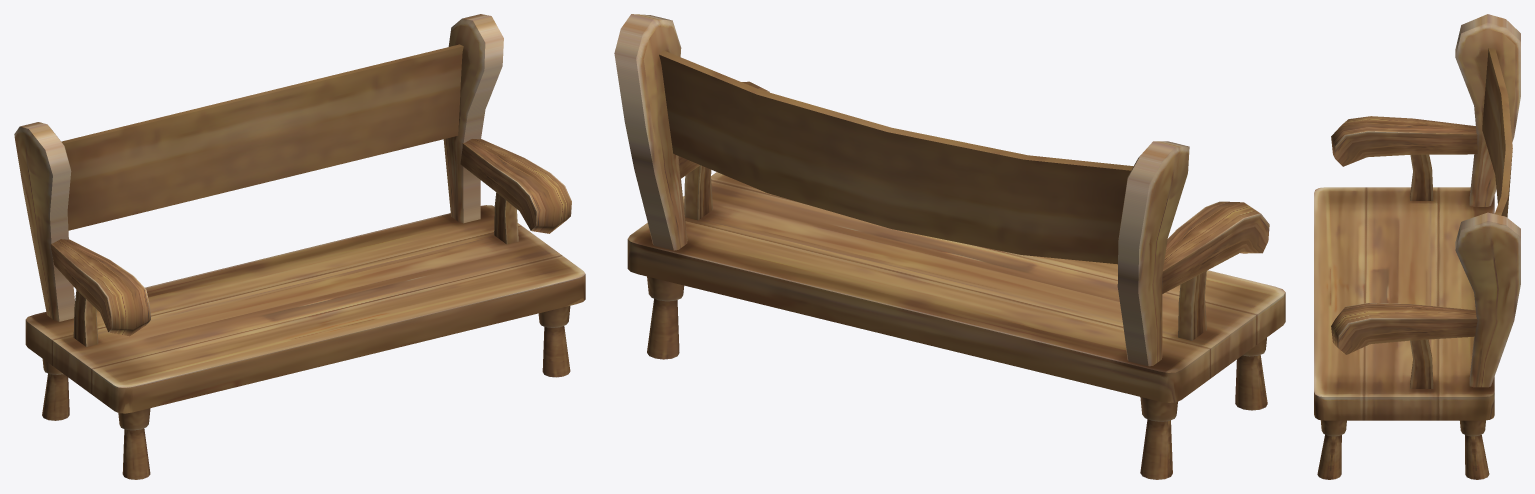
File: CountryBench_HD.fbx
3 renders of one model, left to right at view 1: azimuth 30°, elevation 25°; view 2: azimuth 150°, elevation 25°; view 3: azimuth 270°, elevation 25°, orthographic. The views are drawn at different scales.
Visible parts, largest first — view 1: CountryBench; view 2: CountryBench; view 3: CountryBench.
Boxes of the visible parts, x1,y1,x2,y2 form: CountryBench: (14,14,585,479); CountryBench: (614,14,1285,479); CountryBench: (1314,14,1520,479).
Size of the model in its own units: 1.98 by 1.16 by 0.8262.
